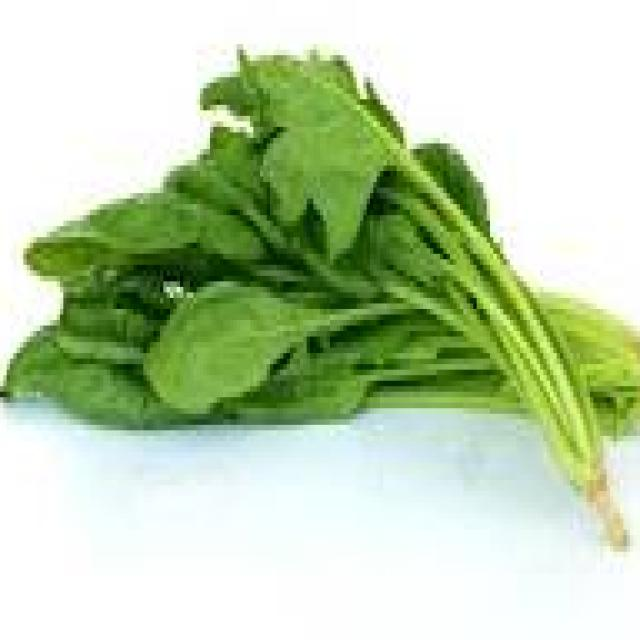greens: (0, 11, 640, 541)
